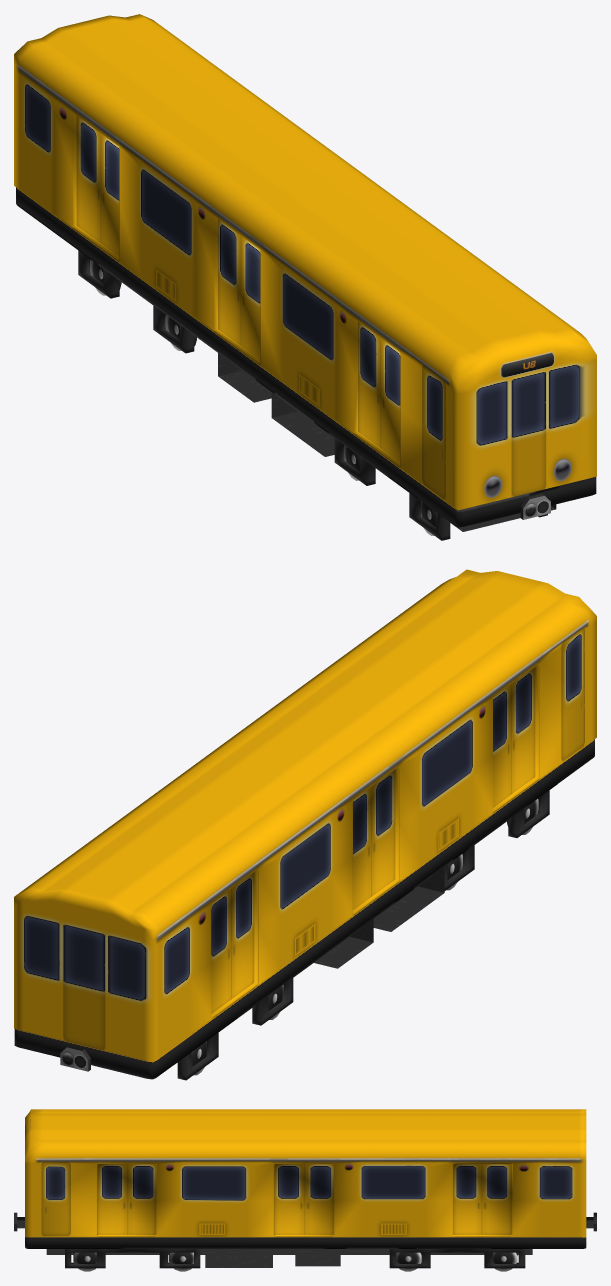
Rendered from ubahn-short.glb.
3 renders of one model, top to bottom at view 1: azimuth 30°, elevation 25°; view 2: azimuth 150°, elevation 25°; view 3: azimuth 270°, elevation 25°, orthographic. The views are drawn at different scales.
Visible parts, largest first — view 1: Object_2; view 2: Object_2; view 3: Object_2.
Boxes of the visible parts, bbox=[...] form: Object_2: bbox=[14, 14, 596, 540]; Object_2: bbox=[14, 569, 596, 1080]; Object_2: bbox=[14, 1109, 596, 1271].
Size of the model in its own units: 2.74 by 3.96 by 15.61.
1 material, 1 textured.
